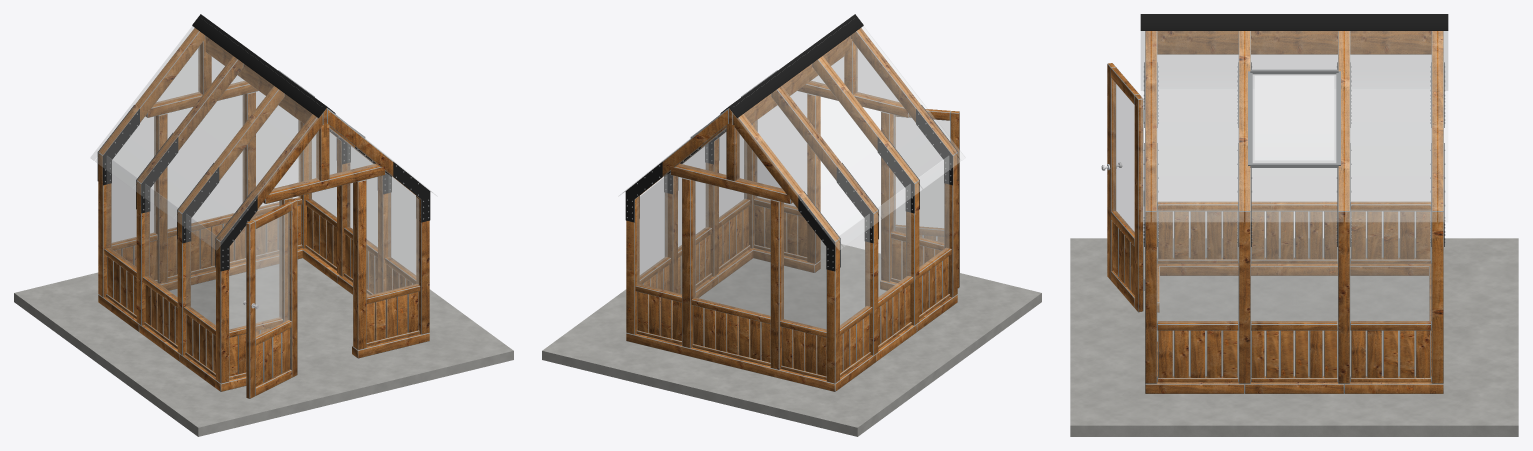
File: nordwood-arrow-mini-ar.glb
3 views of the same model, side by side, from view 1: azimuth 30°, elevation 25°; view 2: azimuth 150°, elevation 25°; view 3: azimuth 270°, elevation 25° (orthographic). The views are drawn at different scales.
Parts seen in each view (by area): view 1: nordwood-arrow-mini; view 2: nordwood-arrow-mini; view 3: nordwood-arrow-mini.
Boxes of the visible parts, x1=… form: nordwood-arrow-mini: x1=14, y1=14, x2=513, y2=436; nordwood-arrow-mini: x1=542, y1=14, x2=1041, y2=436; nordwood-arrow-mini: x1=1070, y1=14, x2=1518, y2=436.
Size of the model in its own units: 3.62 by 2.97 by 3.66.
9 materials, 4 textured.
